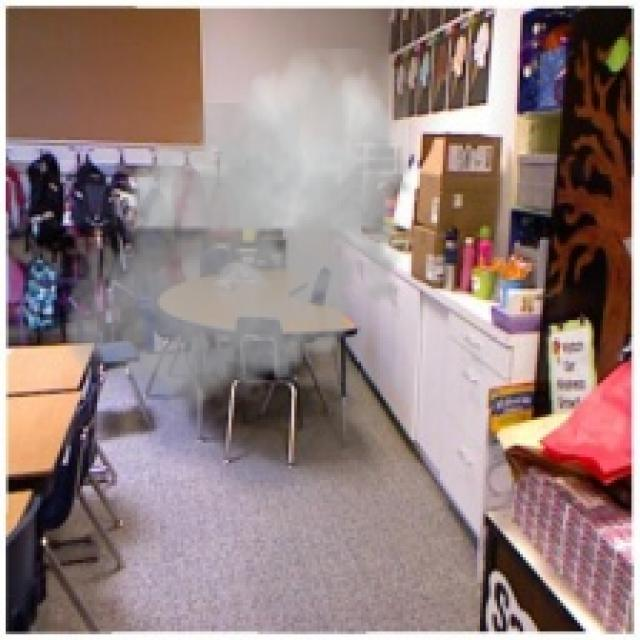smoke: (57, 49, 423, 428)
